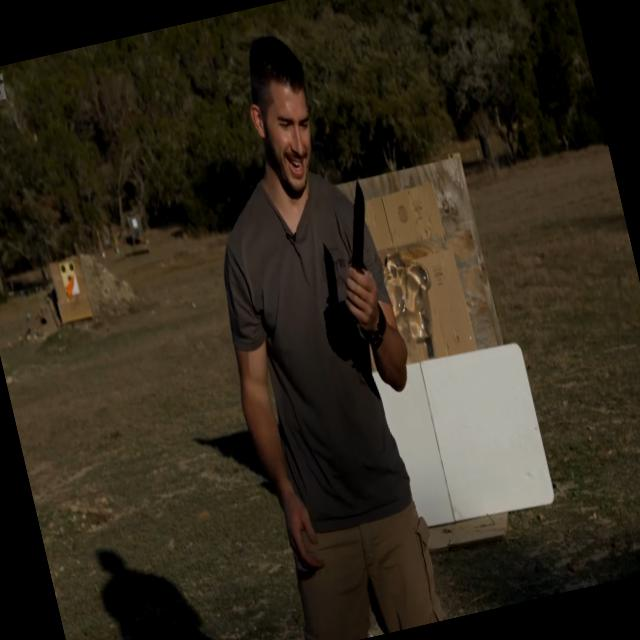knife: (318, 168, 394, 320)
